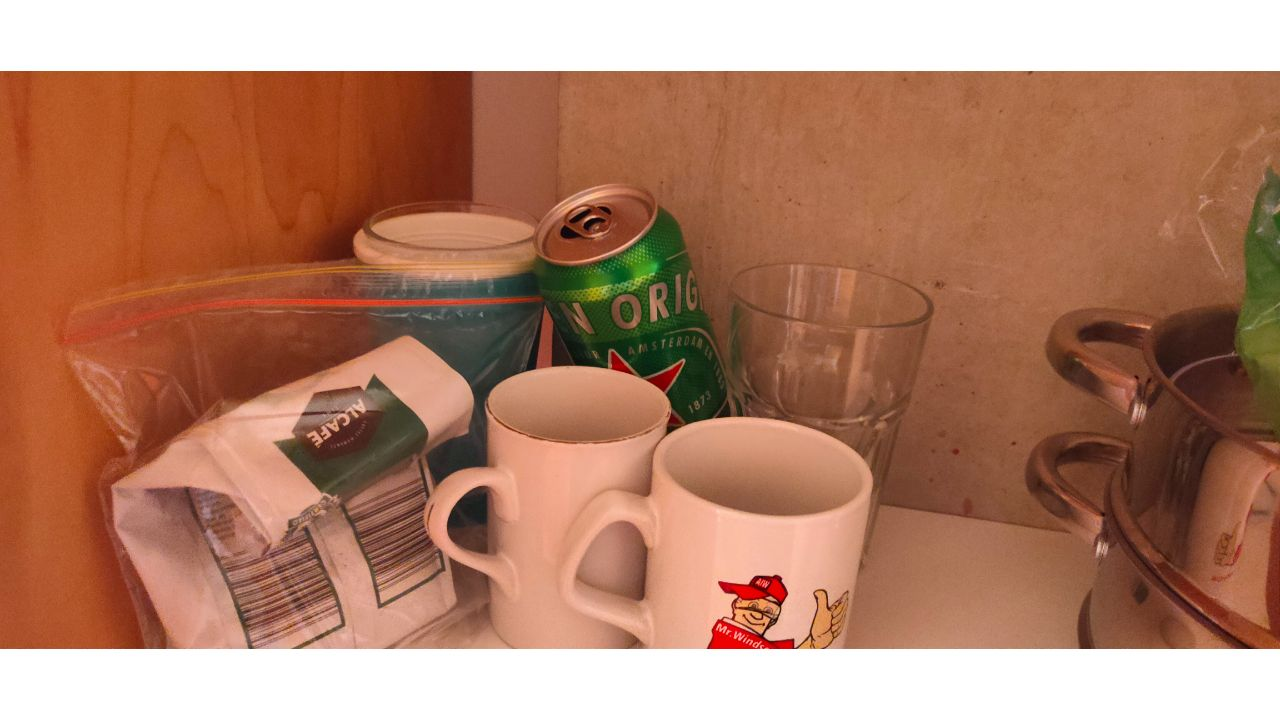Can: (532, 181, 747, 439)
